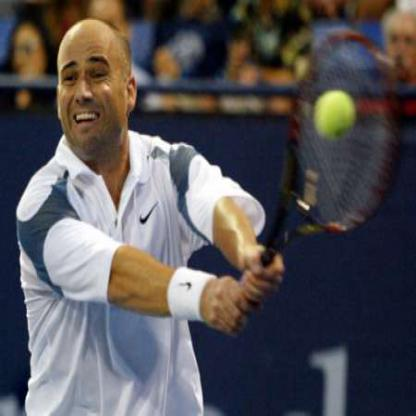face: (57, 19, 130, 153)
